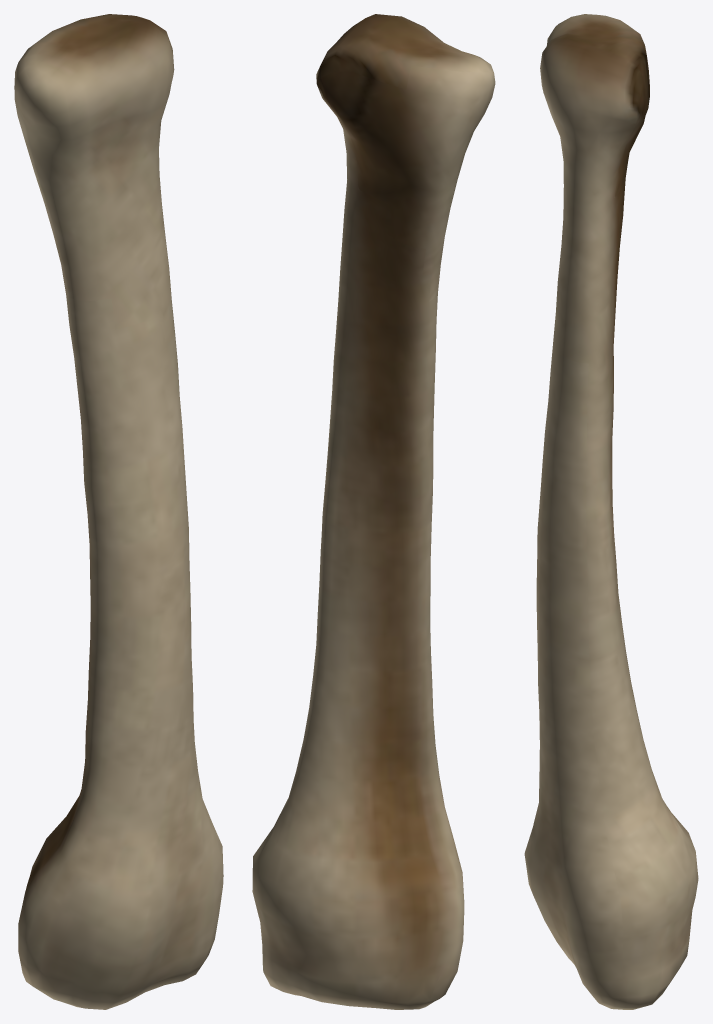
Rendered from Radius.glb.
3 views of the same model, side by side, from view 1: azimuth 30°, elevation 25°; view 2: azimuth 150°, elevation 25°; view 3: azimuth 270°, elevation 25° (orthographic). The views are drawn at different scales.
Parts seen in each view (by area): view 1: polySurface4; view 2: polySurface4; view 3: polySurface4.
Boxes of the visible parts, box(x1,y1,x2,y2) form: polySurface4: box(14, 14, 223, 1009); polySurface4: box(252, 14, 495, 1009); polySurface4: box(524, 14, 698, 1009).
Bounding box in the file's own units: 25.38 × 111 × 18.72.
Materials: 1 (1 with a texture image).
